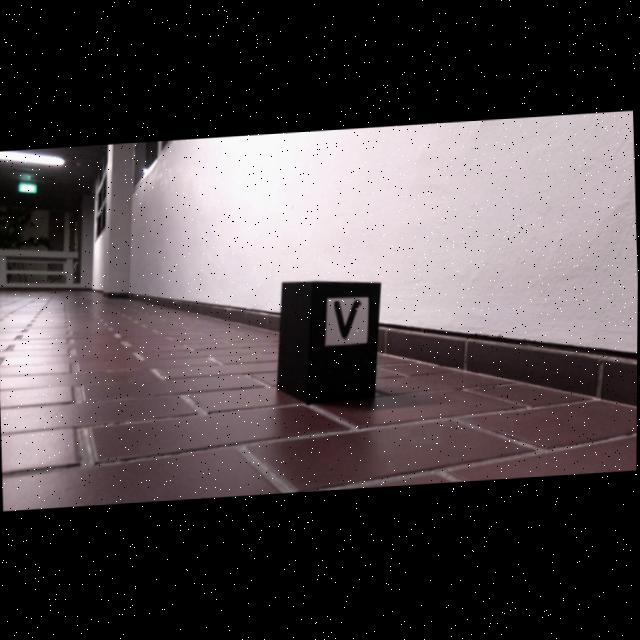V: (335, 302, 360, 340)
